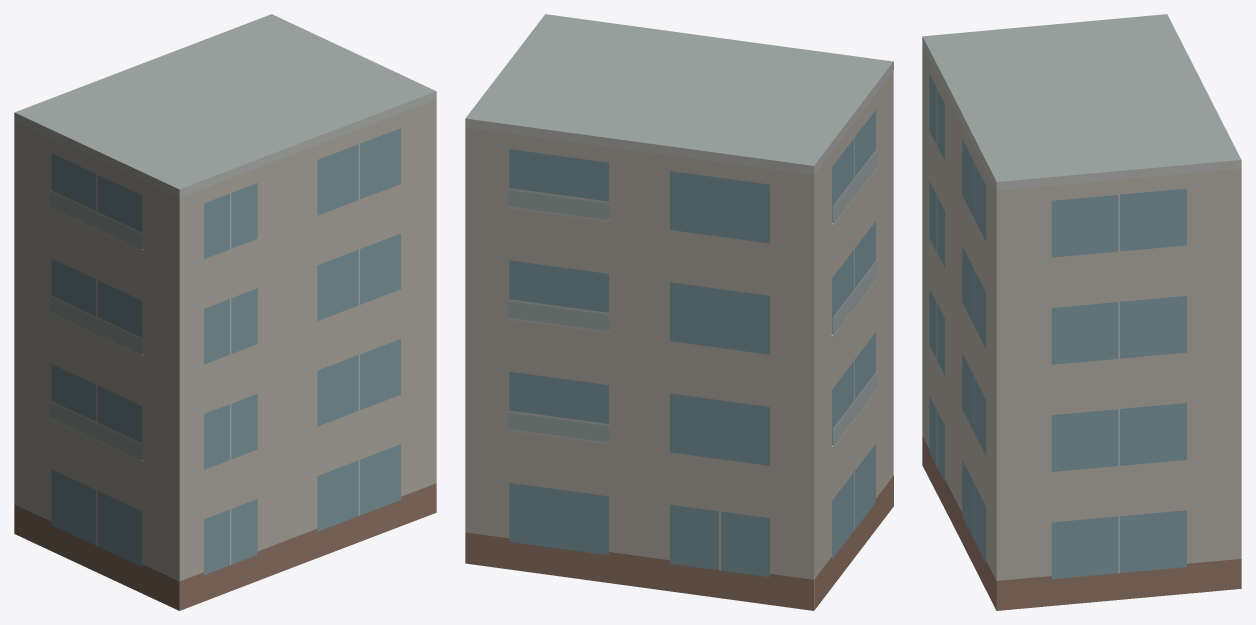
The model's file is residential-9e8ef108-9d25-4876-847f-01349ea21ab8.glb.
3 views of the same model, side by side, from view 1: azimuth 30°, elevation 25°; view 2: azimuth 150°, elevation 25°; view 3: azimuth 270°, elevation 25° (orthographic). The views are drawn at different scales.
Visible parts, largest first — view 1: residential-9e8ef108-9d25-4876-847f-01349ea21ab8.tmp; view 2: residential-9e8ef108-9d25-4876-847f-01349ea21ab8.tmp; view 3: residential-9e8ef108-9d25-4876-847f-01349ea21ab8.tmp.
Part boxes in pixels (x1,y1,x2,y2): residential-9e8ef108-9d25-4876-847f-01349ea21ab8.tmp: (14, 14, 436, 610); residential-9e8ef108-9d25-4876-847f-01349ea21ab8.tmp: (465, 14, 893, 610); residential-9e8ef108-9d25-4876-847f-01349ea21ab8.tmp: (922, 14, 1241, 610).
Bounding box in the file's own units: 10.26 × 12.2 × 8.24.
